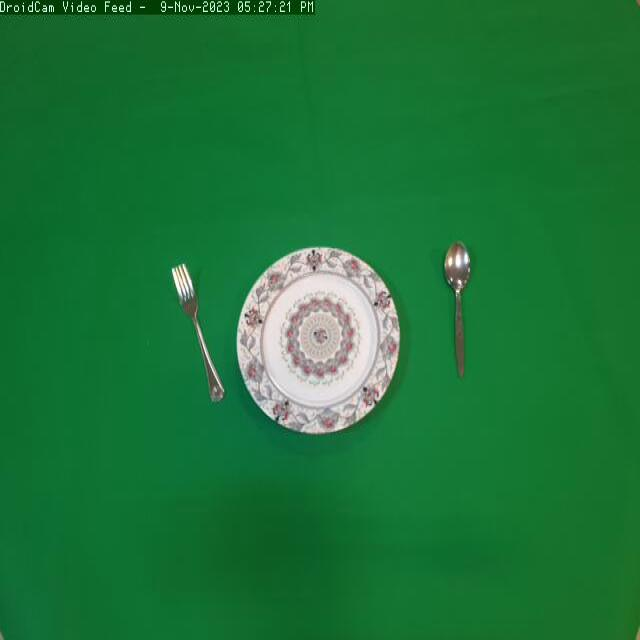fork: (162, 249, 232, 406)
plate: (230, 240, 405, 447)
spoon: (438, 231, 482, 377)
